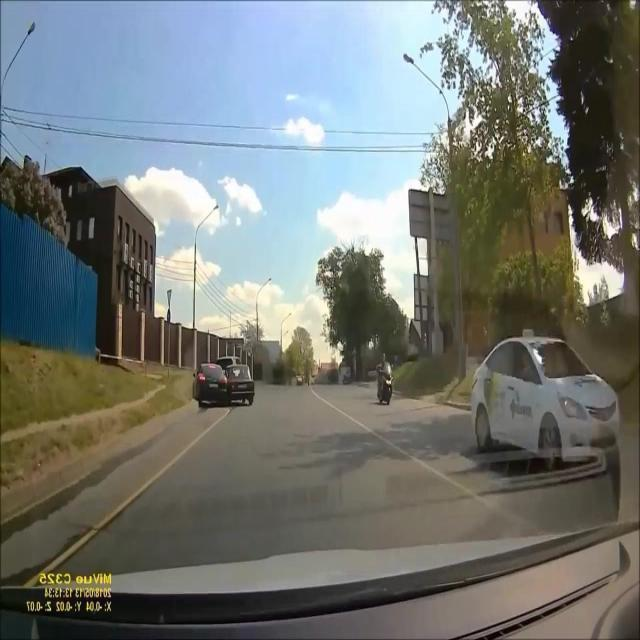multiple_accident: (176, 346, 266, 414)
normal: (443, 312, 626, 493), (363, 325, 395, 417)
